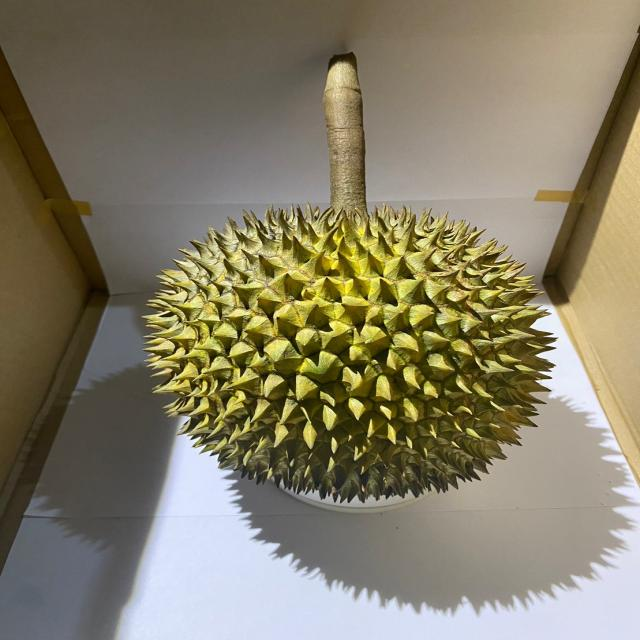immature: (142, 199, 564, 507)
